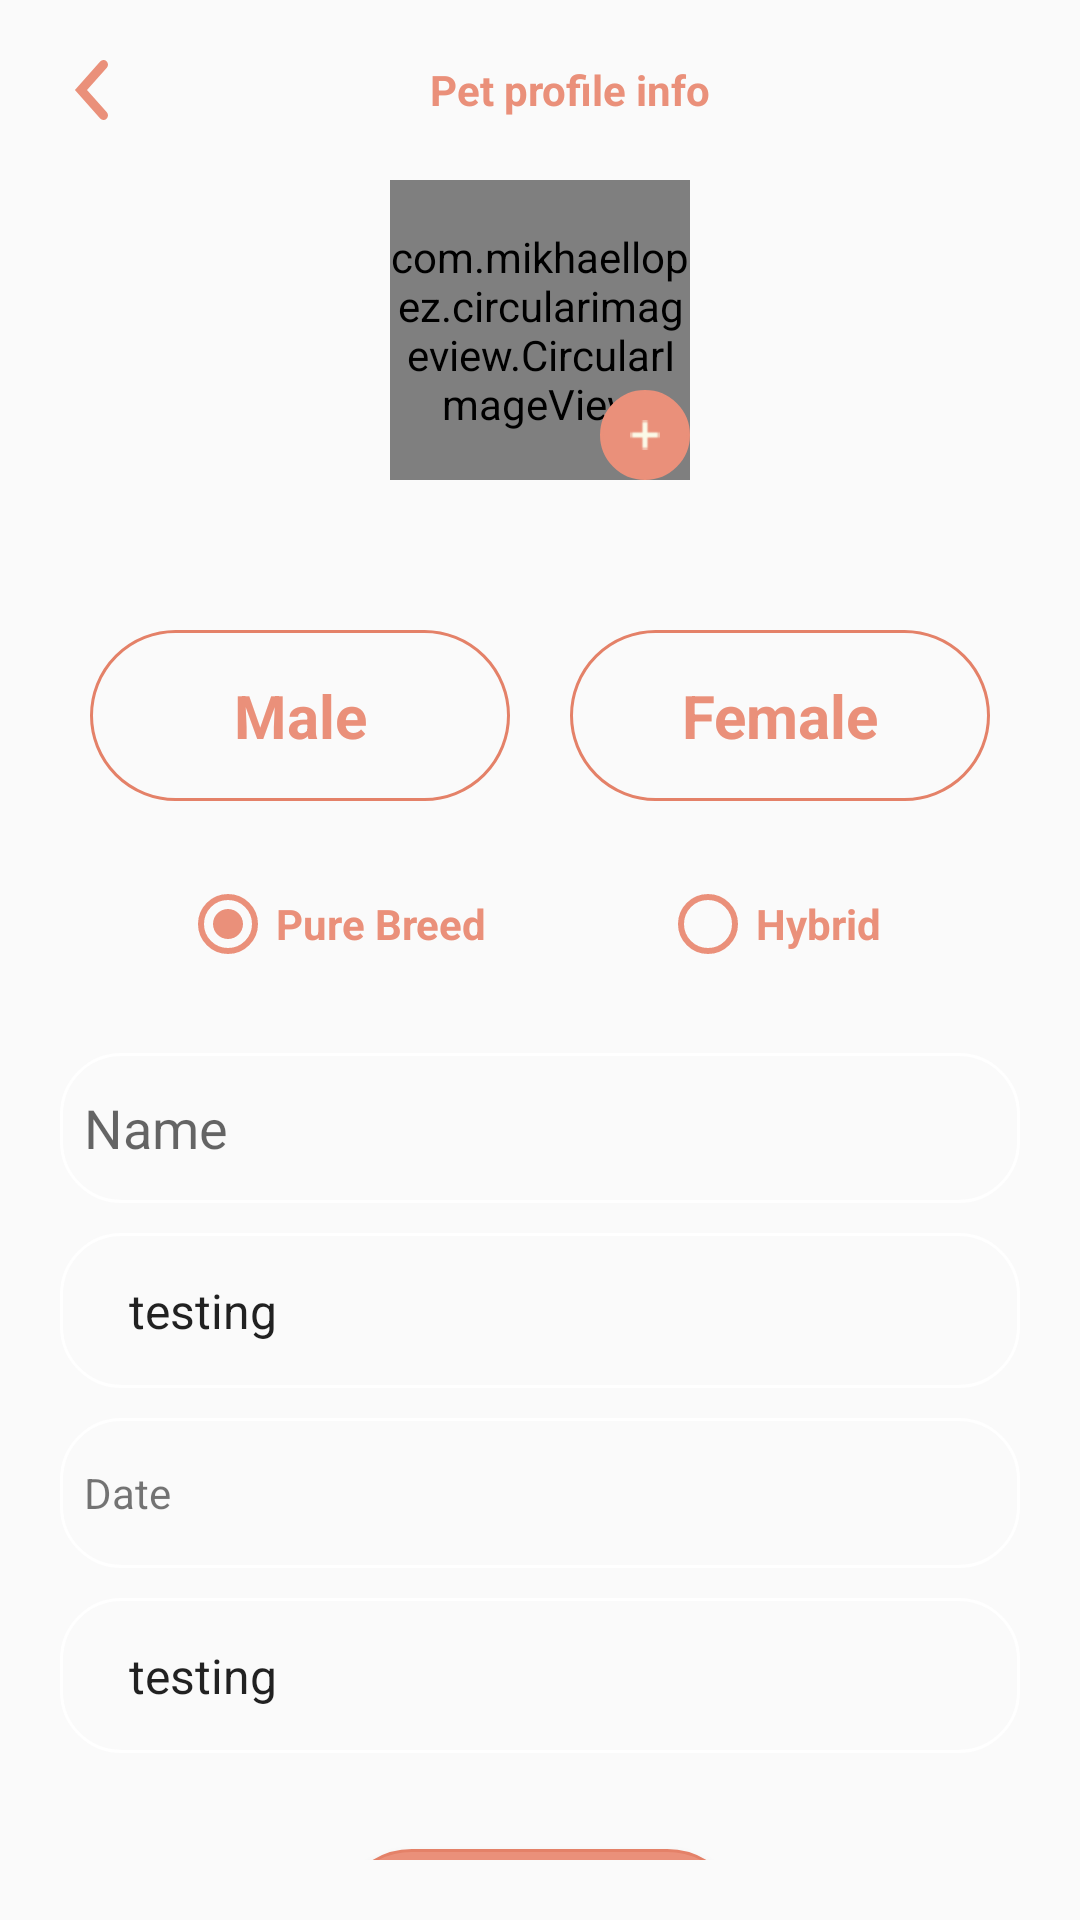

Icons on this 1080 x 1920 Android screen, each with the point to tap as (x=x, y=y):
back: (x=91, y=90)
plus: (x=645, y=435)
